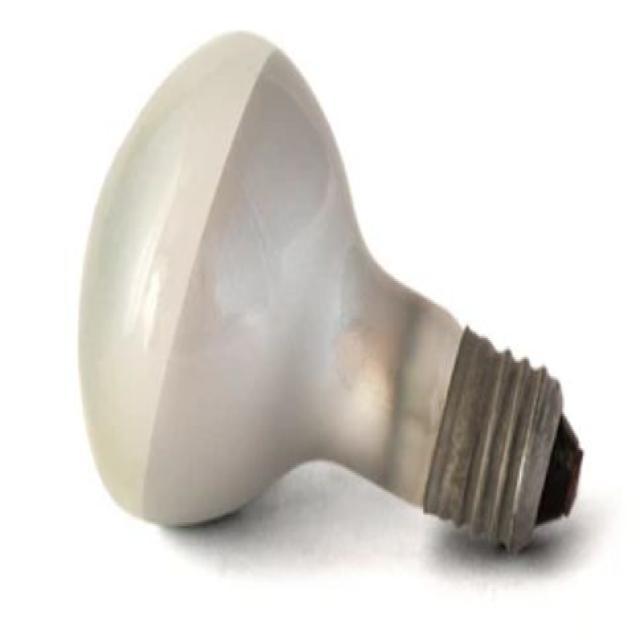electronic: (76, 27, 584, 554)
